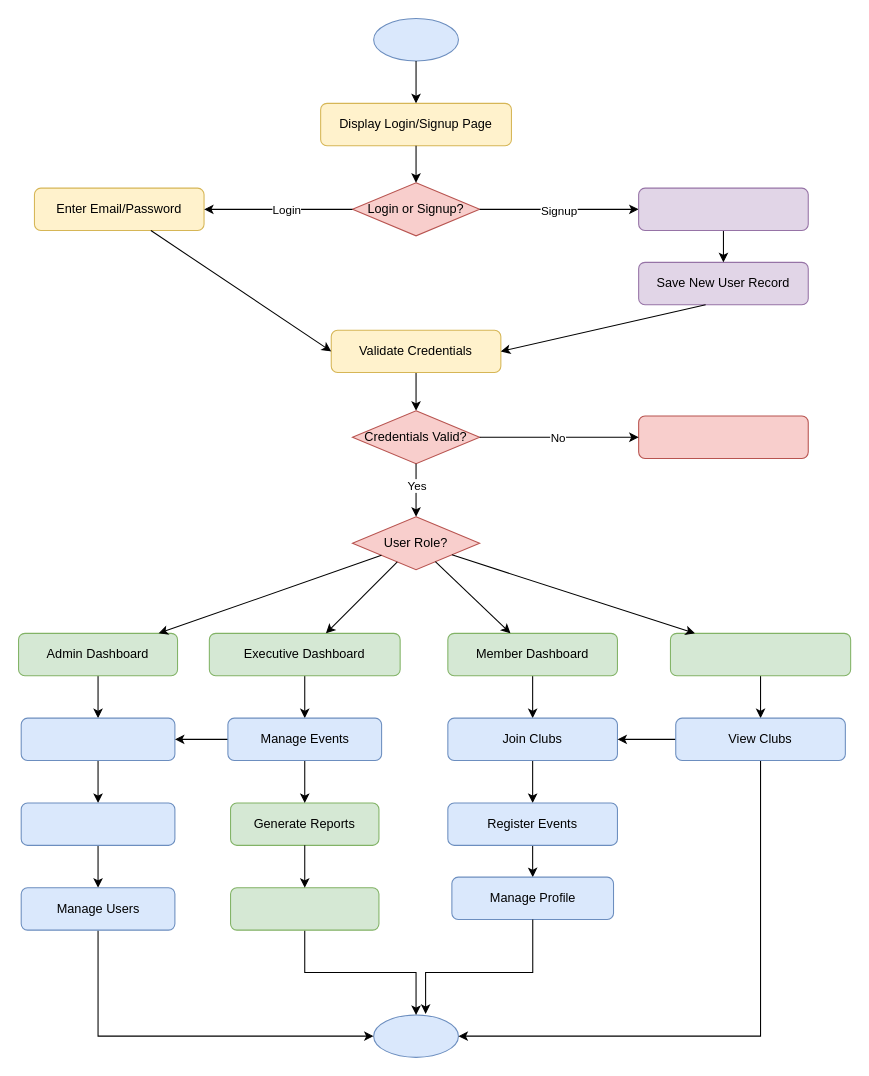
This 869x1076 diagram has some shape labels left out. The centre of each missing label's shape, as x and y in pixels:
End: point 415,1035
Enter Signup Details: point 723,209
Guest Dashboard: point 760,654
Manage Clubs: point 97,739
Send Notifications: point 304,908
Show Error Message: point 723,436
Start: point 415,39
View Statistics: point 97,823
